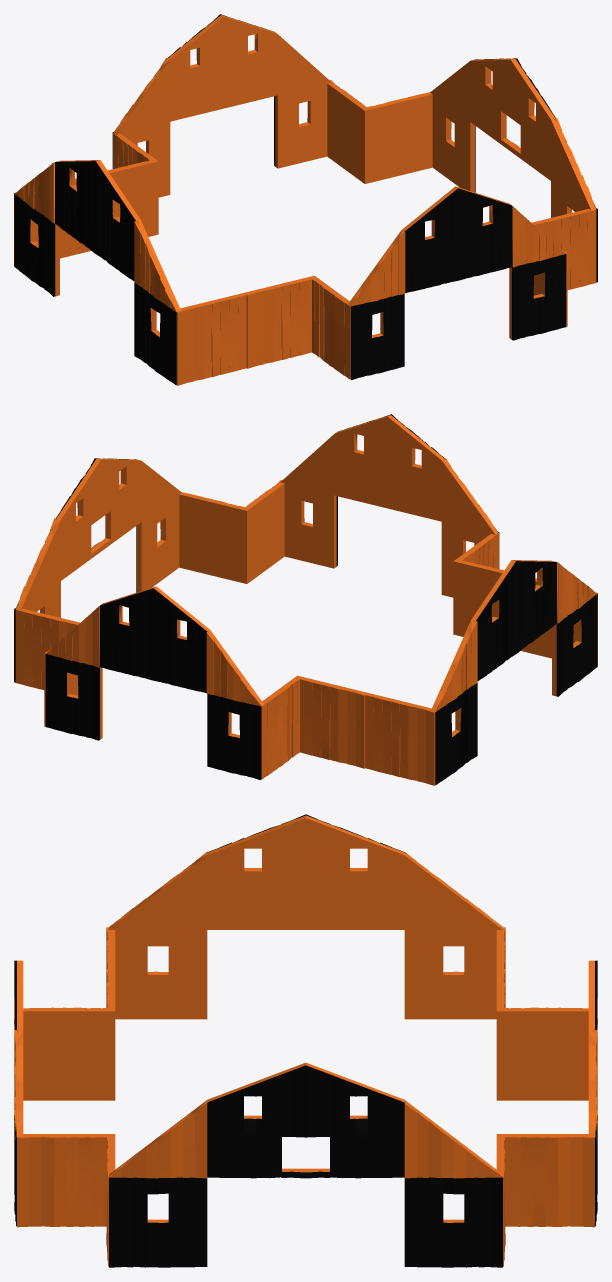
File: FermeAngle.fbx
3 views of the same model, one above another, from view 1: azimuth 30°, elevation 25°; view 2: azimuth 150°, elevation 25°; view 3: azimuth 270°, elevation 25° (orthographic). The views are drawn at different scales.
Visible parts, largest first — view 1: FermeAngle; view 2: FermeAngle; view 3: FermeAngle.
Boxes of the visible parts, bbox=[...] form: FermeAngle: bbox=[14, 14, 597, 385]; FermeAngle: bbox=[14, 414, 597, 785]; FermeAngle: bbox=[14, 814, 597, 1267].
Bounding box in the file's own units: 3635 × 1352 × 3555.
